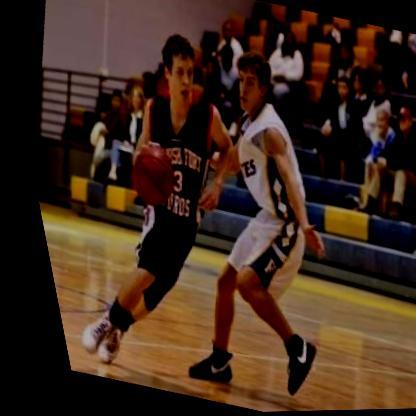basketball: (111, 142, 182, 215)
